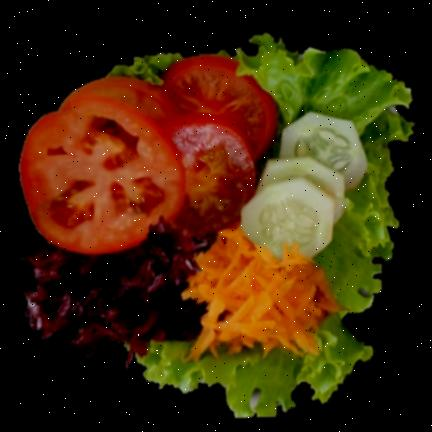beet: (19, 218, 215, 363)
carrot: (183, 227, 340, 361)
cucumber: (242, 113, 366, 259)
salad: (237, 35, 414, 315), (139, 314, 372, 418), (111, 56, 180, 84)
tomato: (21, 56, 277, 254)
